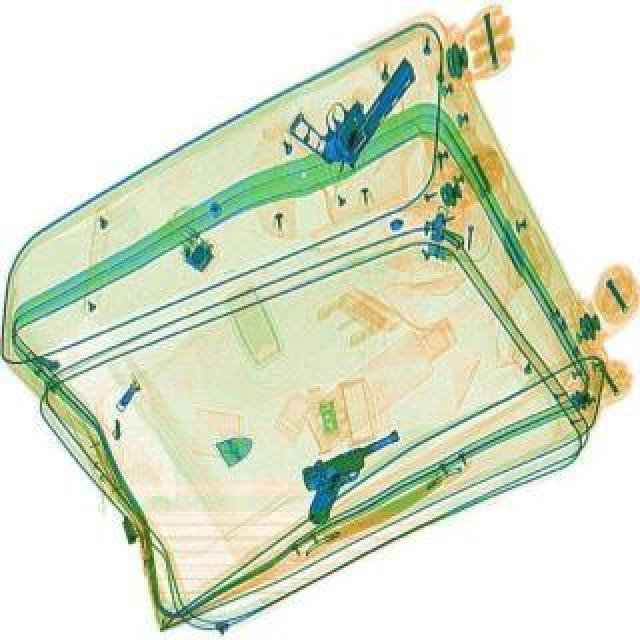gun: (282, 28, 422, 172), (286, 426, 422, 524)
